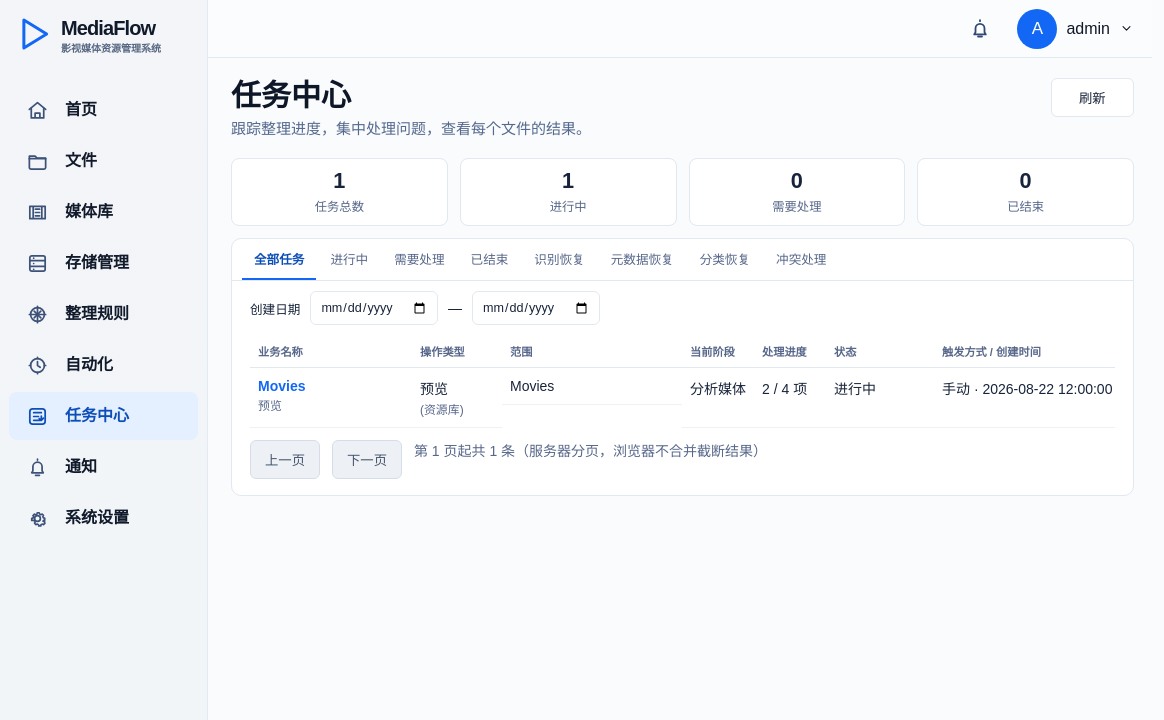
Test case: Operations run inventory landing › retains the chosen time after a network failure and rereads that exact scope
Expected: the table is shown, [250,335,1115,428]
Type "2026-08-01" into the 1st date field named "开始日期" at (374, 308), box [310,291,438,325]
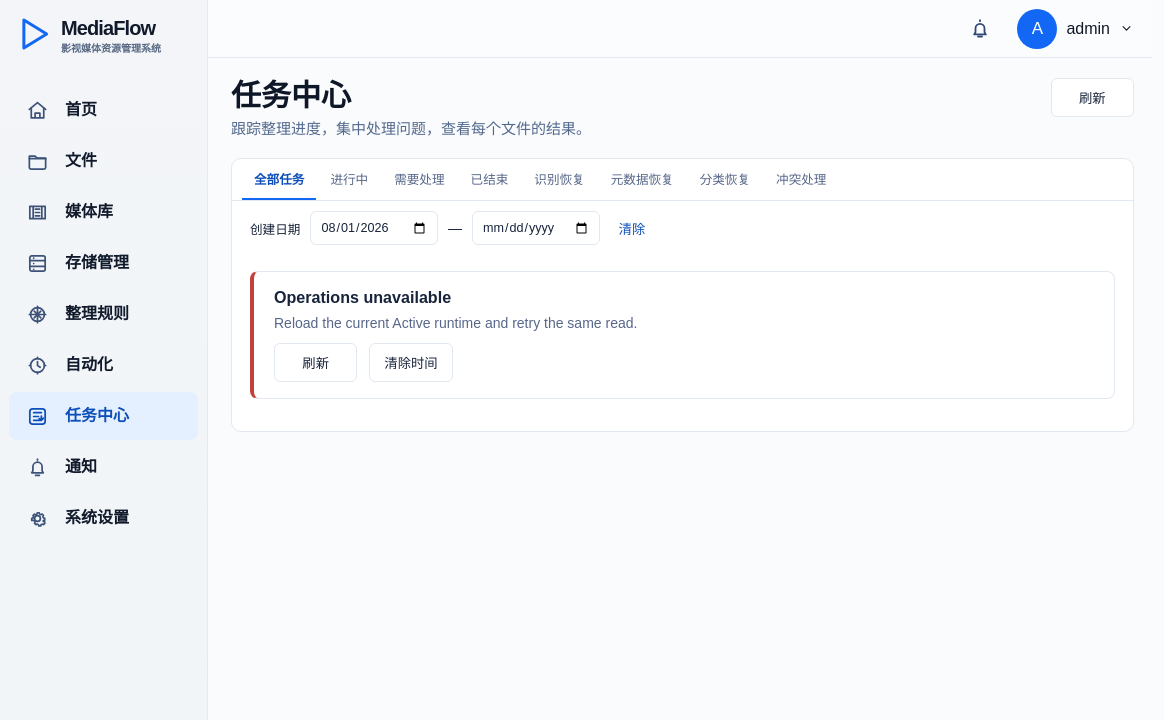
Now the heading "Operations unavailable" is shown, box [274,288,451,306]
Click the 1st button "刷新" at (1092, 98), box [1051,78,1134,117]
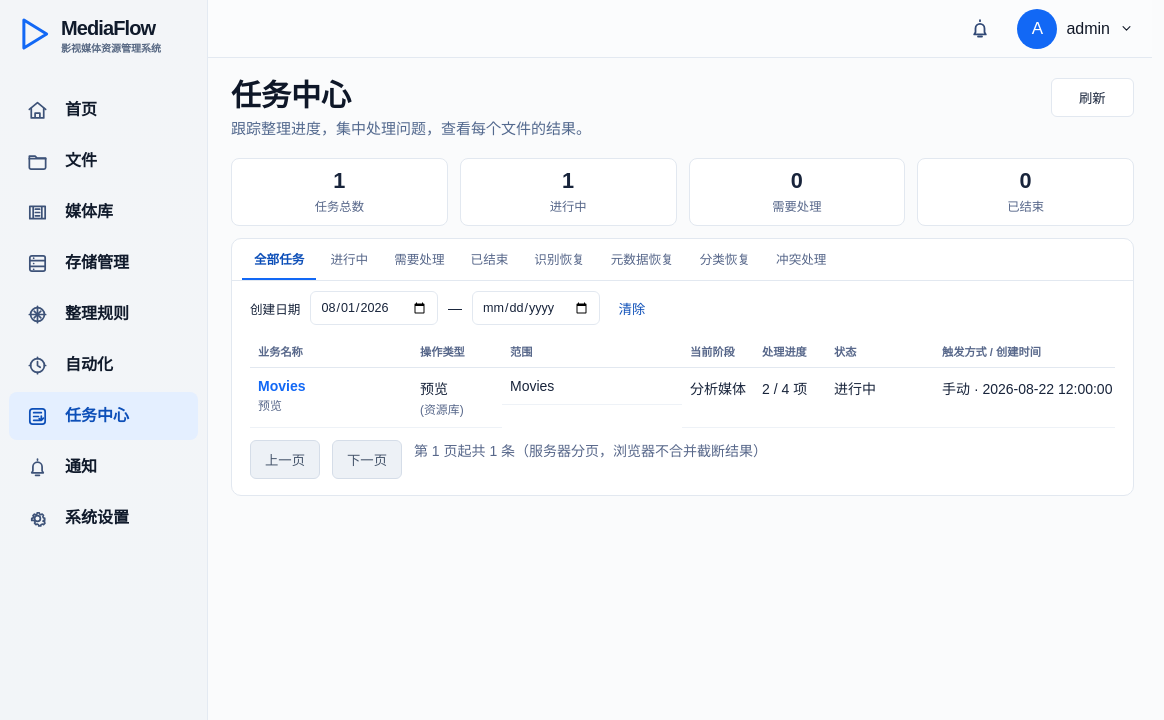
Now the table is shown, box [250,335,1115,428]
